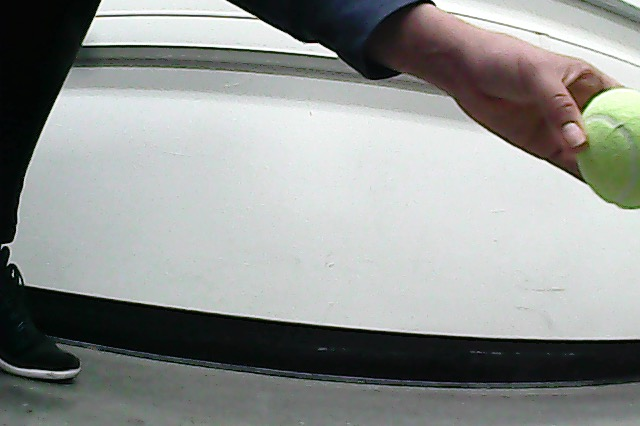ball: (577, 89, 640, 210)
